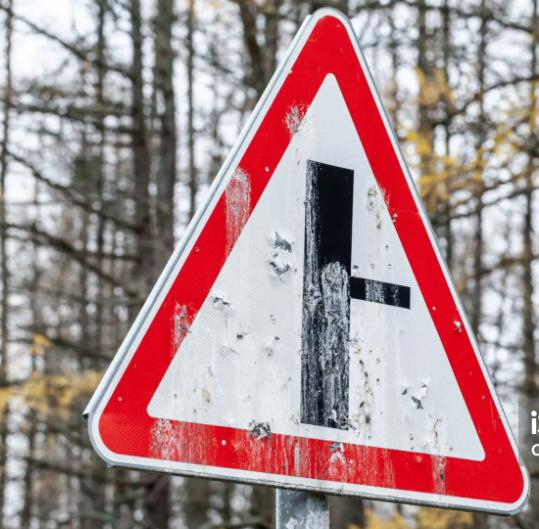obstructed_road_sign: (85, 9, 529, 513)
